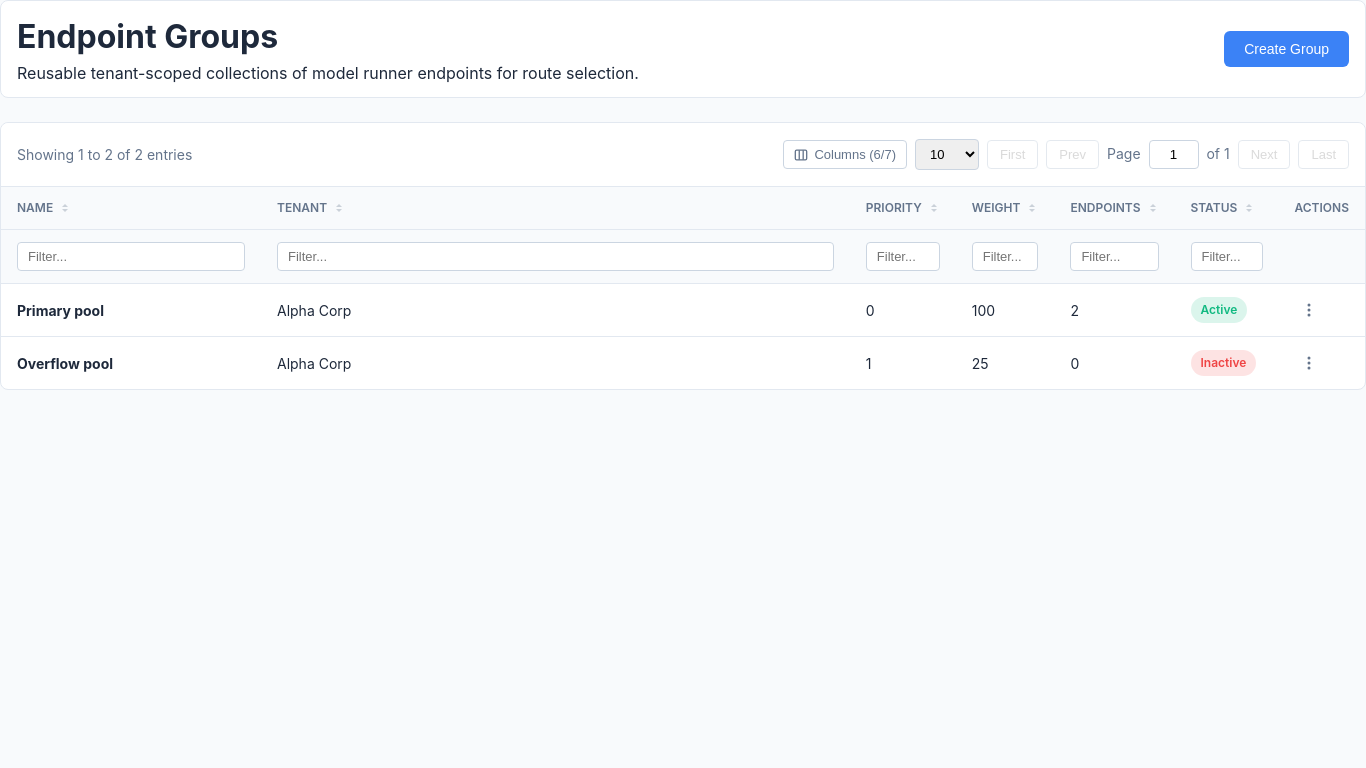
Endpoint Groups view › validates and then creates an endpoint group with the entered values
Check: the text "Primary pool" is shown, box 17,302 -> 104,318
Click the button "Create Group": [1287, 49] box 1224,31 -> 1349,67
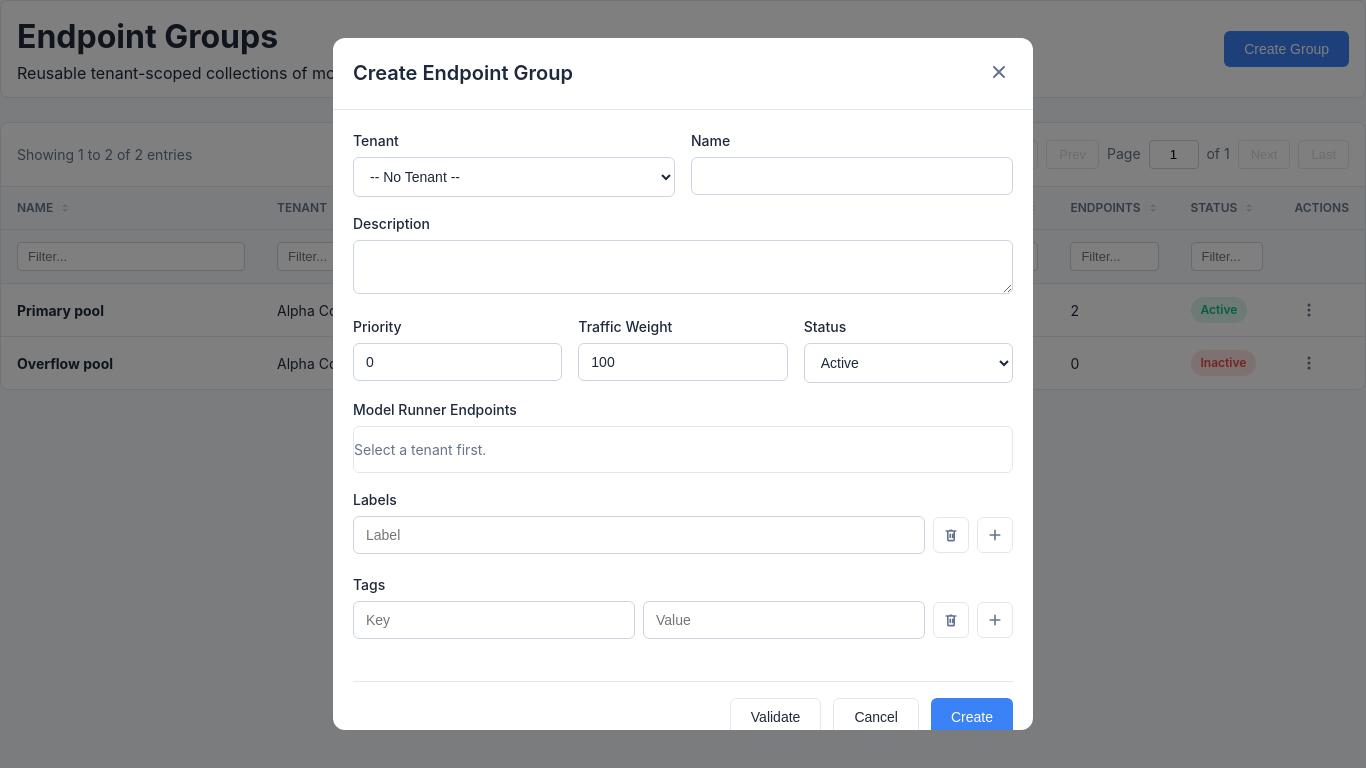
Check: the form is shown, box 353,130 -> 1013,730
Select "Alpha Corp (ten_alpha)" in the dropdown labelled "Tenant": [514, 177] box 353,157 -> 675,197
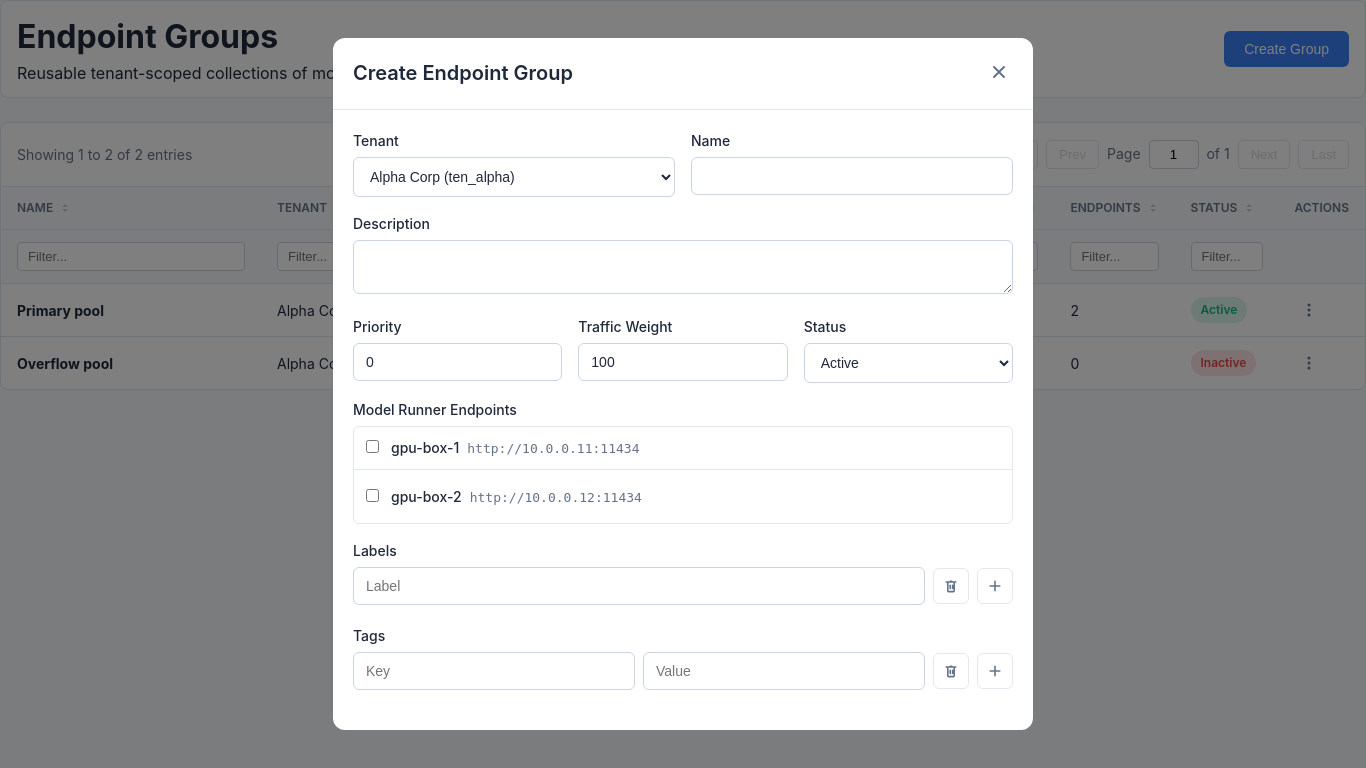
In the field labelled "Name": [852, 176] box 691,157 -> 1013,195, type "Canary pool"
In the text box labelled "Description": [683, 267] box 353,240 -> 1013,294, type "Five percent canary"
Replace the text in the number field labelled "Priority" with "2": [458, 362] box 353,343 -> 562,381
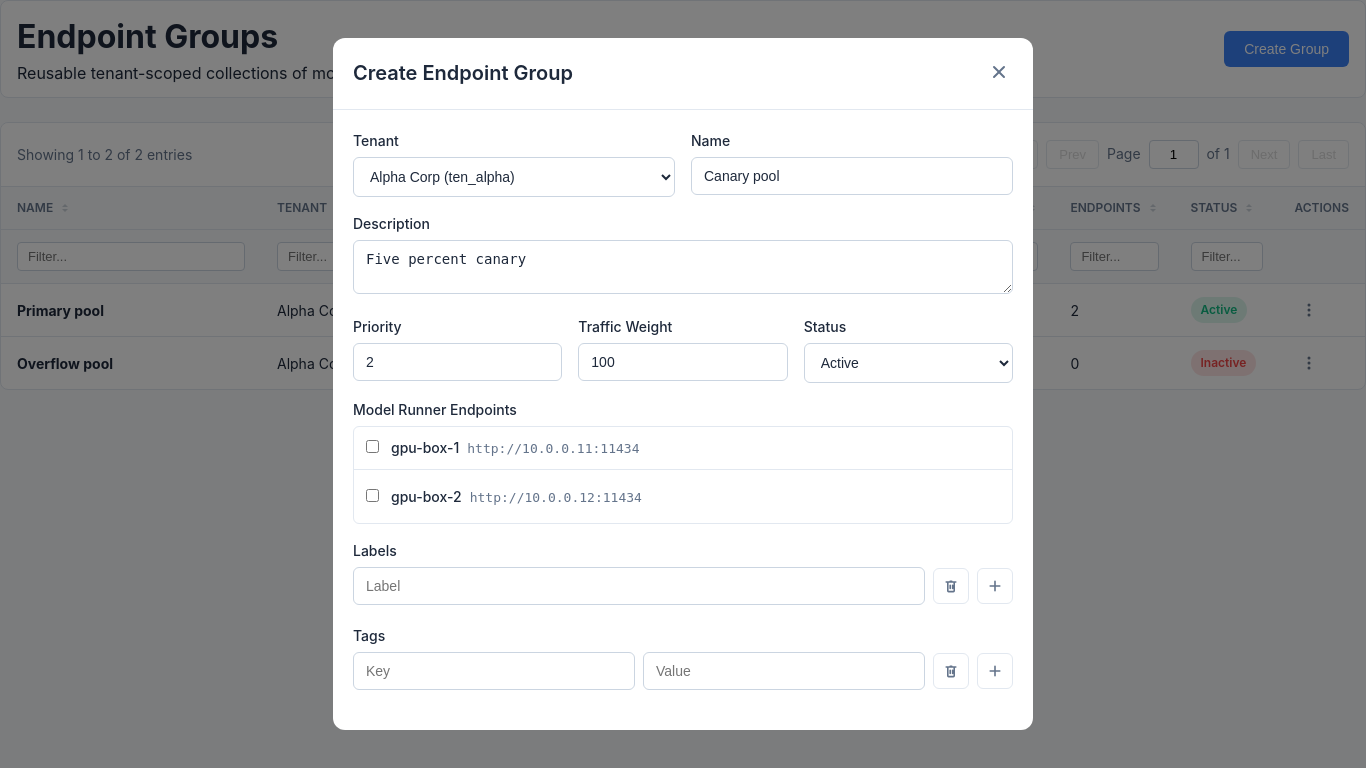
Replace the text in the number field labelled "Traffic Weight" with "5": [683, 362] box 578,343 -> 788,381
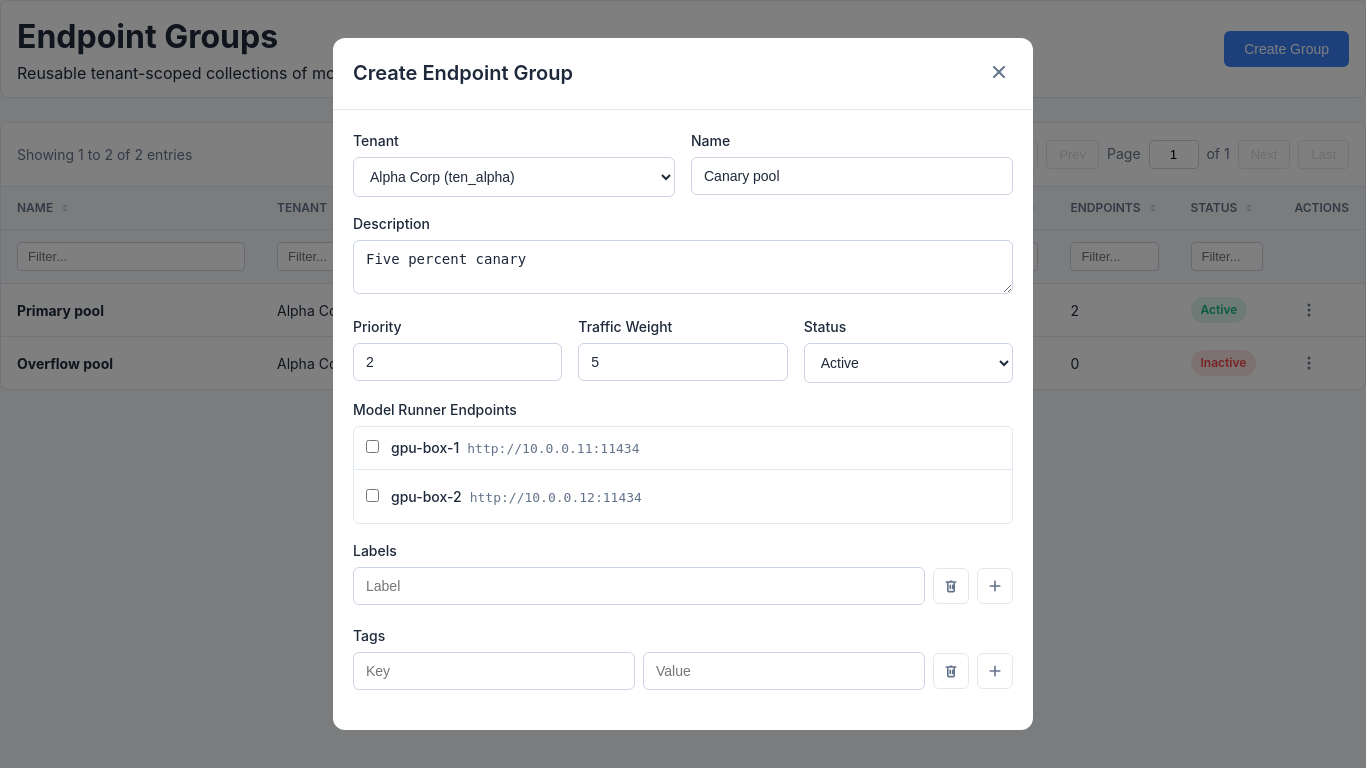
Click the text "gpu-box-2": [426, 496] box 391,488 -> 462,505
(page scrolled)
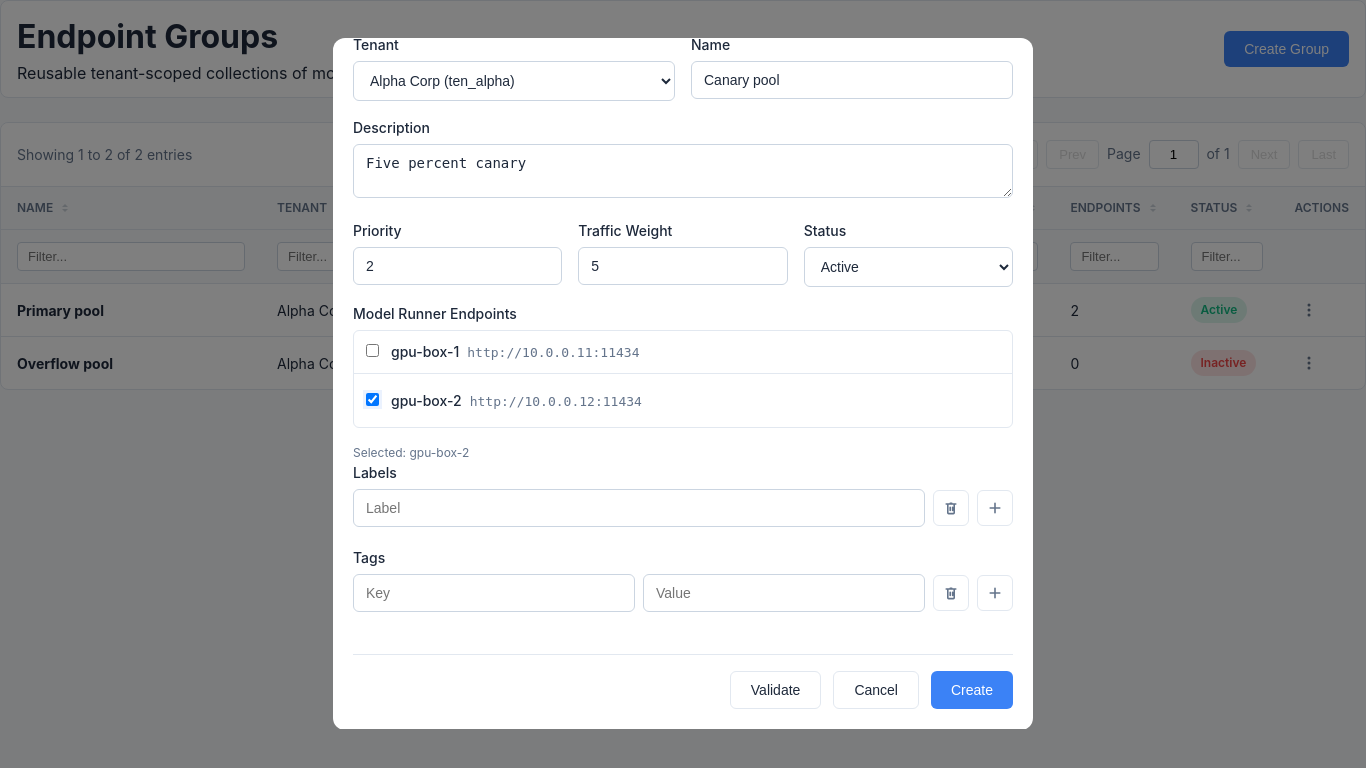
Click the button "Create": [972, 690] box 931,671 -> 1013,709
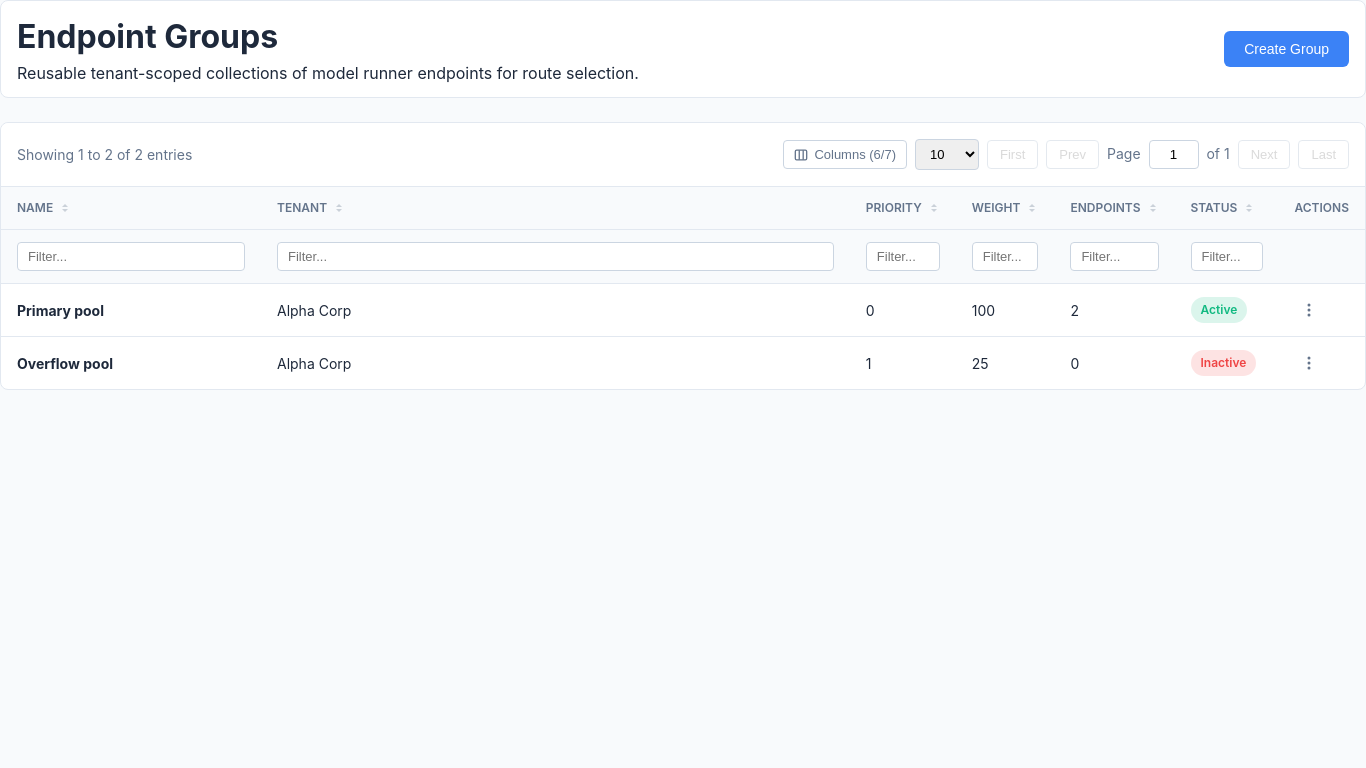
Check: the form is gone
